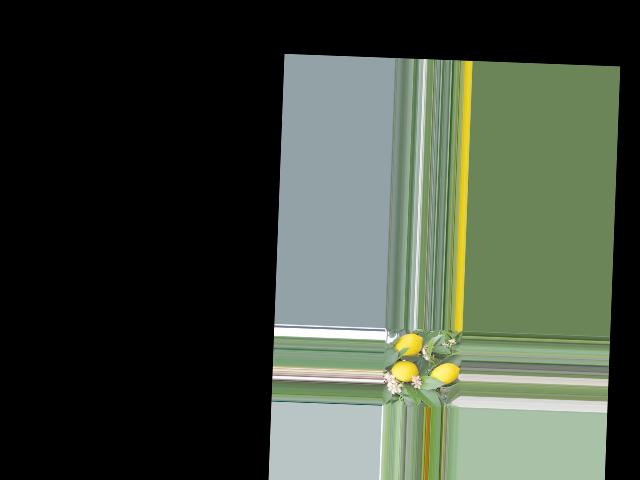lemon: (426, 361, 459, 389)
